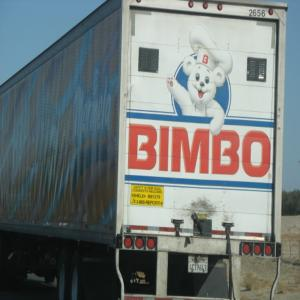Vehicle-registration-plate: (187, 254, 211, 275)
